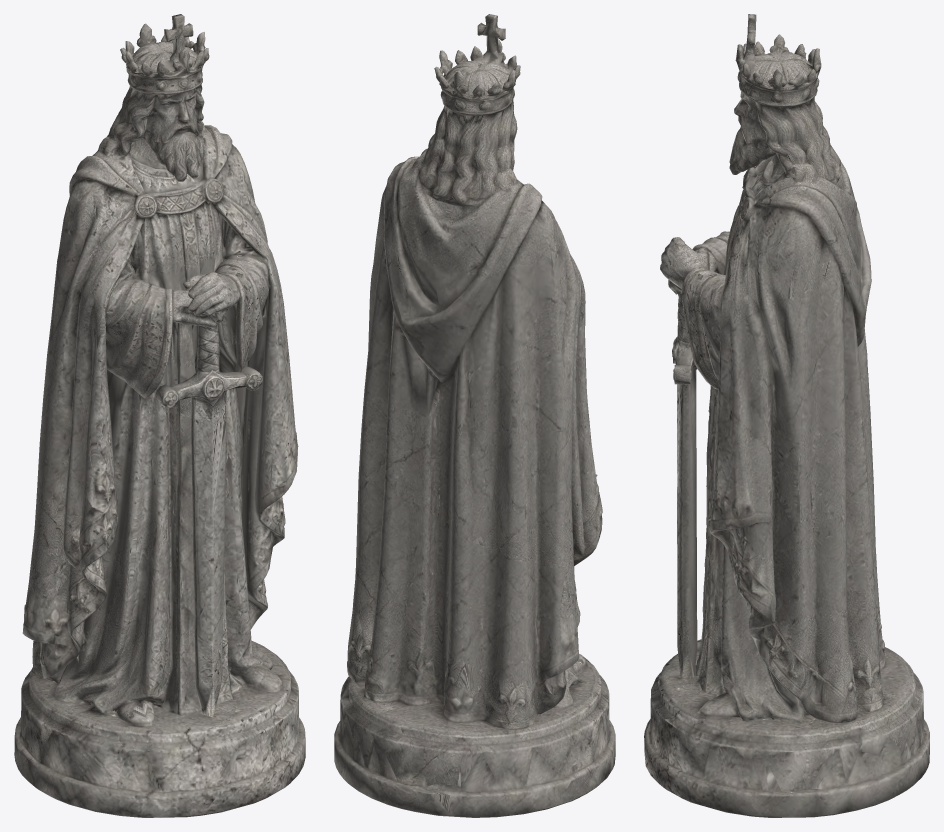
The picture shows the model from 3 angles, left to right: view 1: azimuth 30°, elevation 25°; view 2: azimuth 150°, elevation 25°; view 3: azimuth 270°, elevation 25°; orthographic projection. The views are drawn at different scales.
Bounding box in the file's own units: 0.5666 × 1.62 × 0.5656.
1 material, 1 textured.
